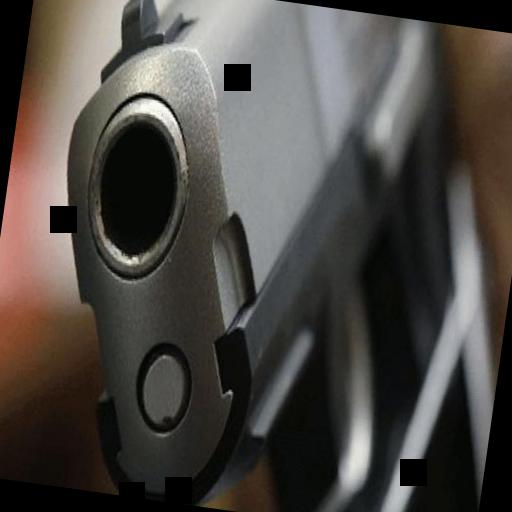Handgun: (46, 0, 472, 510)
